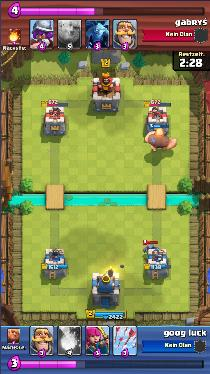ally_giant: (145, 128, 177, 151)
enemy_mini_pekka: (142, 242, 158, 255)
